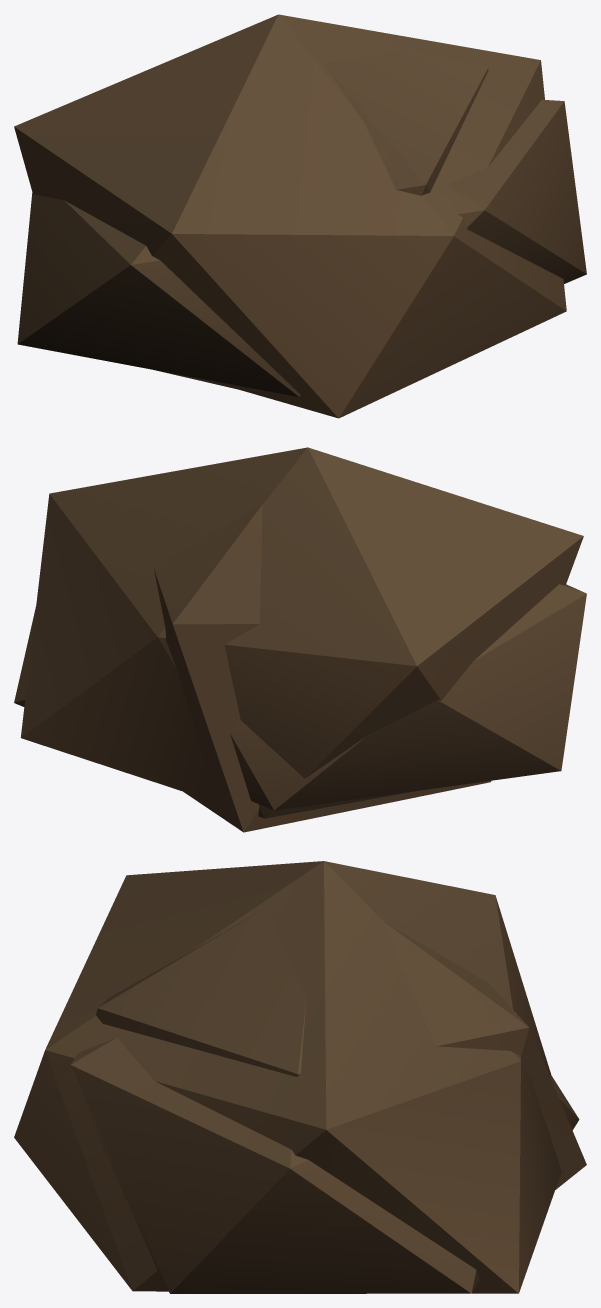
Rendered from rocks_desert_lod1.glb.
3 renders of one model, top to bottom at view 1: azimuth 30°, elevation 25°; view 2: azimuth 150°, elevation 25°; view 3: azimuth 270°, elevation 25°, orthographic. The views are drawn at different scales.
Parts seen in each view (by area): view 1: v0, v1, v2; view 2: v0, v1, v2; view 3: v0, v1, v2.
Part boxes in pixels (x1,y1,x2,y2): v0: (14,14,566,418); v1: (17,99,586,396); v2: (154,49,488,388); v0: (20,447,583,818); v1: (14,584,586,810); v2: (153,504,491,832); v0: (14,861,561,1293); v1: (69,1037,579,1293); v2: (96,909,586,1189).
Bounding box in the file's own units: 0.9657 × 0.5509 × 0.8035.
